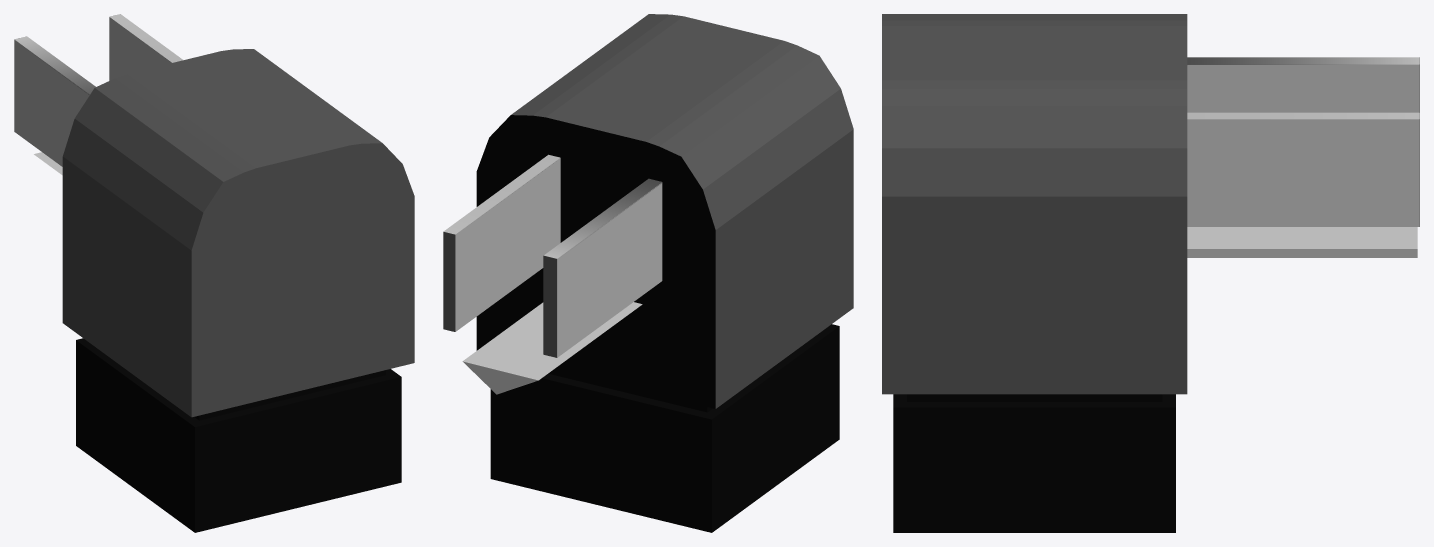
The model's file is 充电器3.fbx.
3 views of the same model, side by side, from view 1: azimuth 30°, elevation 25°; view 2: azimuth 150°, elevation 25°; view 3: azimuth 270°, elevation 25° (orthographic). The views are drawn at different scales.
Parts seen in each view (by area): view 1: 立方体.002; view 2: 立方体.002; view 3: 立方体.002.
Boxes of the visible parts, bbox=[...] form: 立方体.002: bbox=[14, 14, 414, 532]; 立方体.002: bbox=[443, 14, 853, 532]; 立方体.002: bbox=[882, 14, 1419, 532].
Bounding box in the file's own units: 374 × 568 × 659.
1 material, 1 textured.
